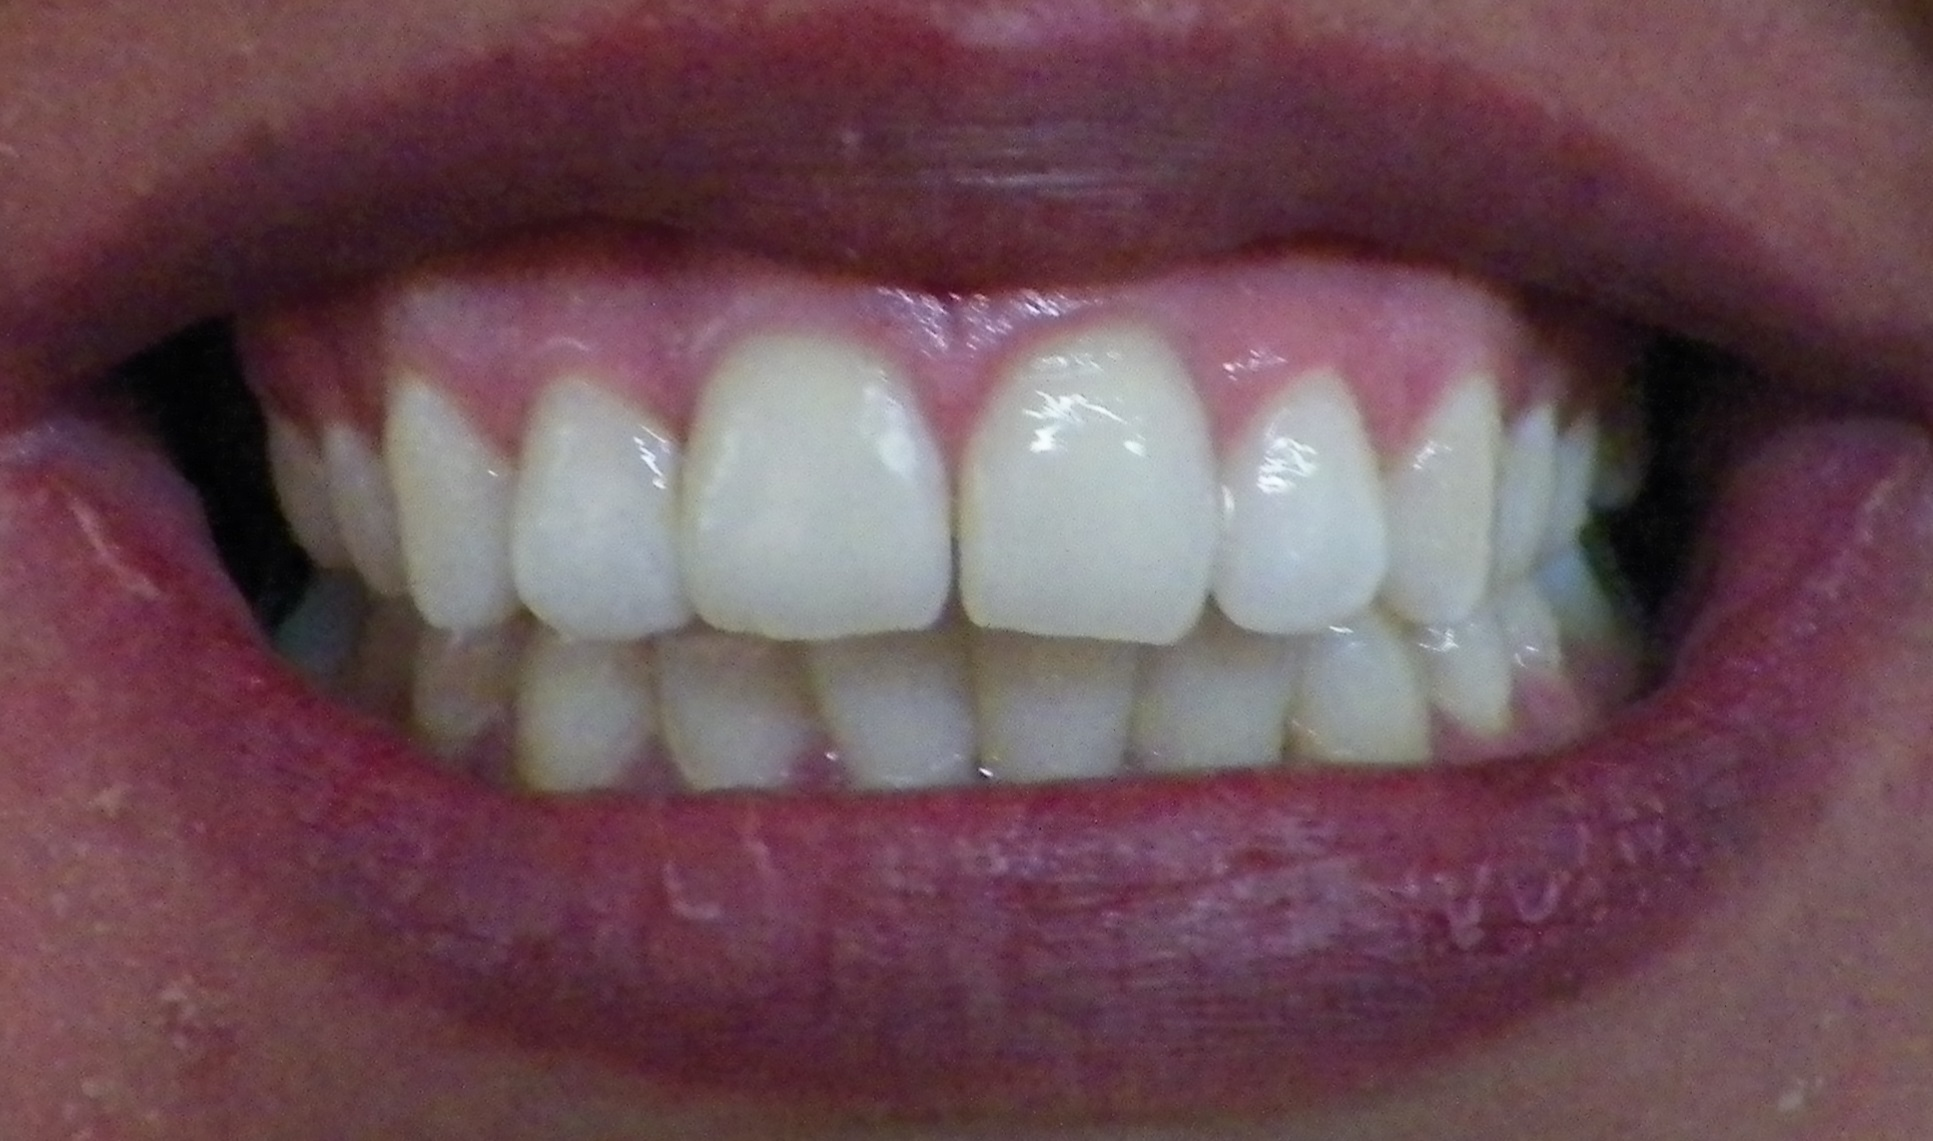boca: (217, 316, 1664, 808)
